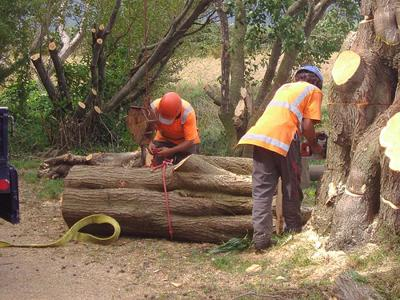person: (229, 64, 327, 254)
